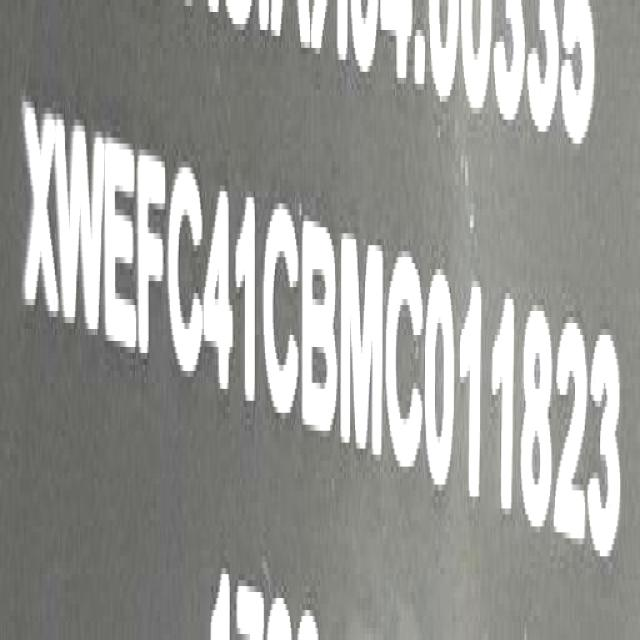1: (491, 288, 516, 514), (234, 186, 258, 410), (461, 284, 482, 501)
2: (553, 301, 588, 552)
3: (586, 324, 623, 558)
4: (202, 178, 235, 394)
8: (520, 288, 554, 541)
B: (299, 217, 339, 439)
C: (261, 204, 301, 428), (384, 253, 425, 465), (167, 159, 203, 390)
E: (102, 130, 138, 366)
F: (136, 146, 168, 368)
M: (338, 226, 384, 461), (424, 268, 458, 503)
W: (56, 106, 104, 337)
X: (22, 93, 59, 337)
